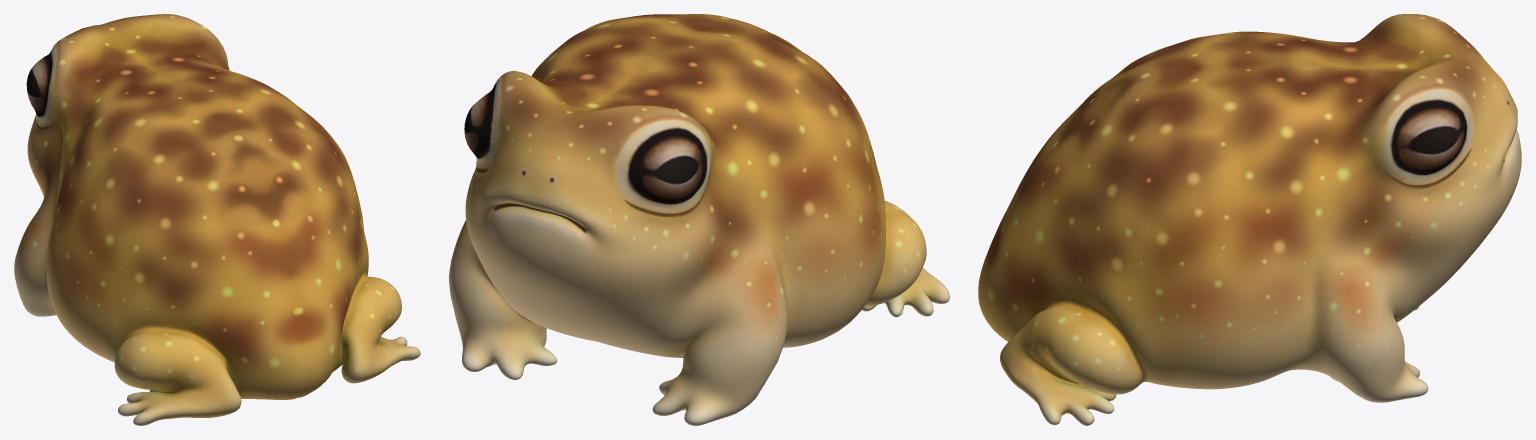
Rendered from Frog.glb.
3 renders of one model, left to right at view 1: azimuth 30°, elevation 25°; view 2: azimuth 150°, elevation 25°; view 3: azimuth 270°, elevation 25°, orthographic. The views are drawn at different scales.
Visible parts, largest first — view 1: Frog; view 2: Frog; view 3: Frog.
Boxes of the visible parts, left/top/right/bottom form: Frog: left=14, top=14, right=420, bottom=425; Frog: left=449, top=14, right=949, bottom=425; Frog: left=978, top=14, right=1521, bottom=425.
Size of the model in its own units: 0.00777 by 0.00638 by 0.0105.
Materials: 1 (1 with a texture image).
